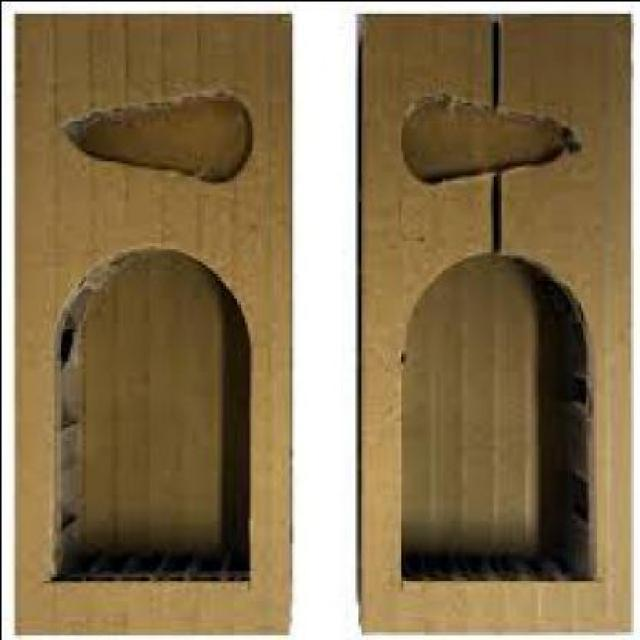box: (11, 15, 289, 634), (352, 15, 628, 637)
